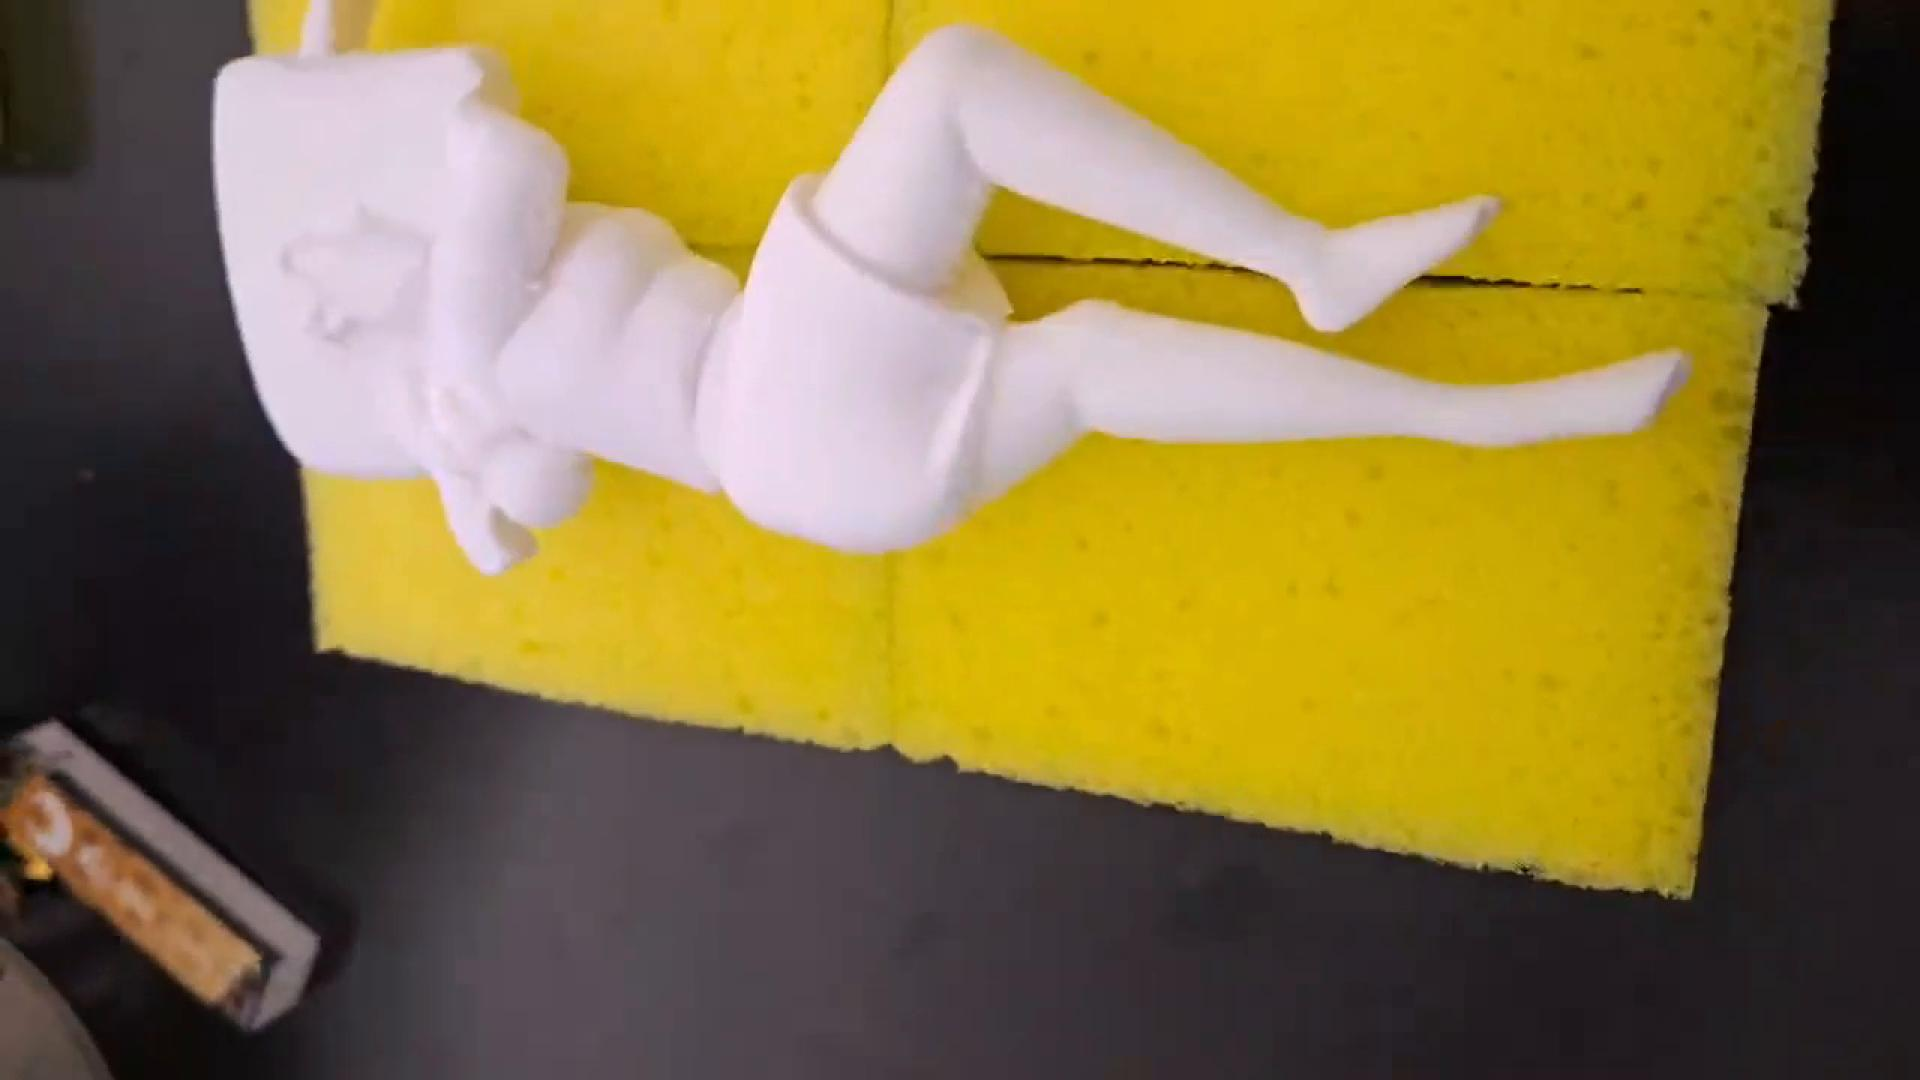Good-style: (142, 0, 1735, 641)
